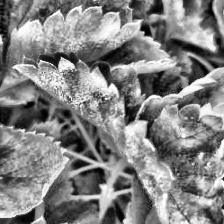Powdery Mildew Leaf: (110, 102, 224, 224), (1, 0, 143, 92), (10, 52, 146, 138), (132, 67, 224, 129), (0, 0, 58, 56)
